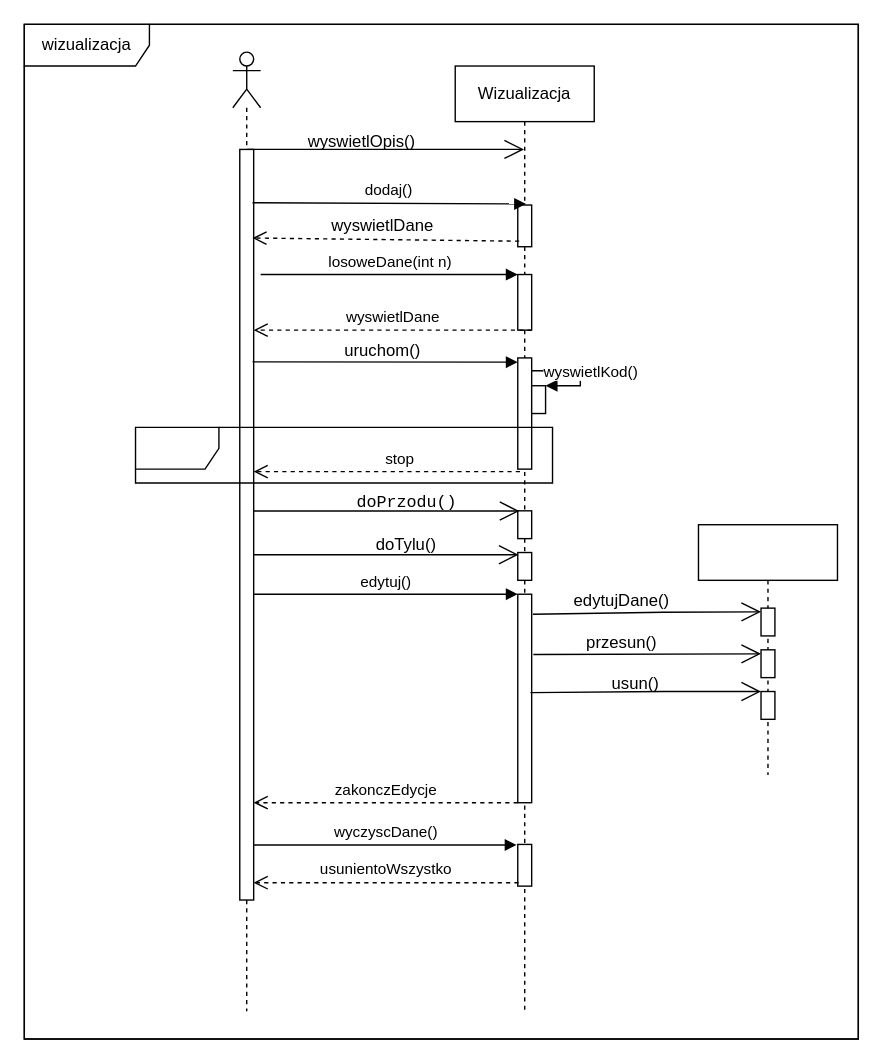
Some shapes in this 883 by 1063 pixel diagram are drawn without their labels. Here are the shapes that lost their labels. From the top down, the centre of each, then its label:
At [343,454]: "alt stop".
At [767,649]: "Tryb Edycji".
